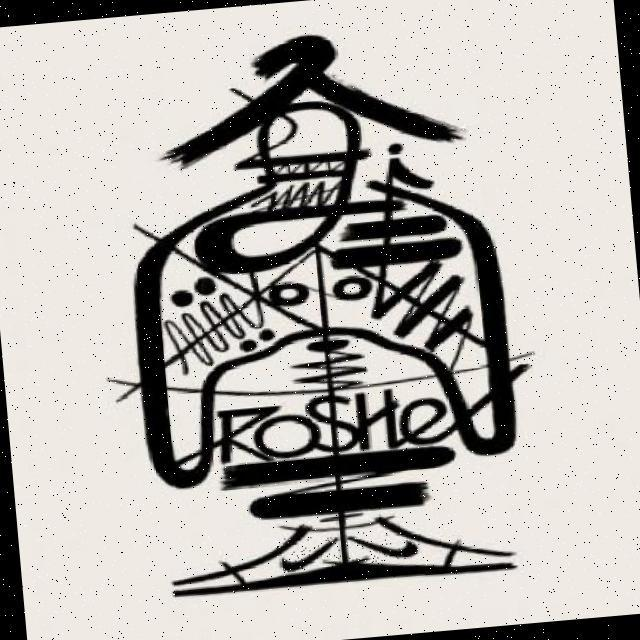Nike: (345, 525, 421, 565), (273, 534, 342, 573)
